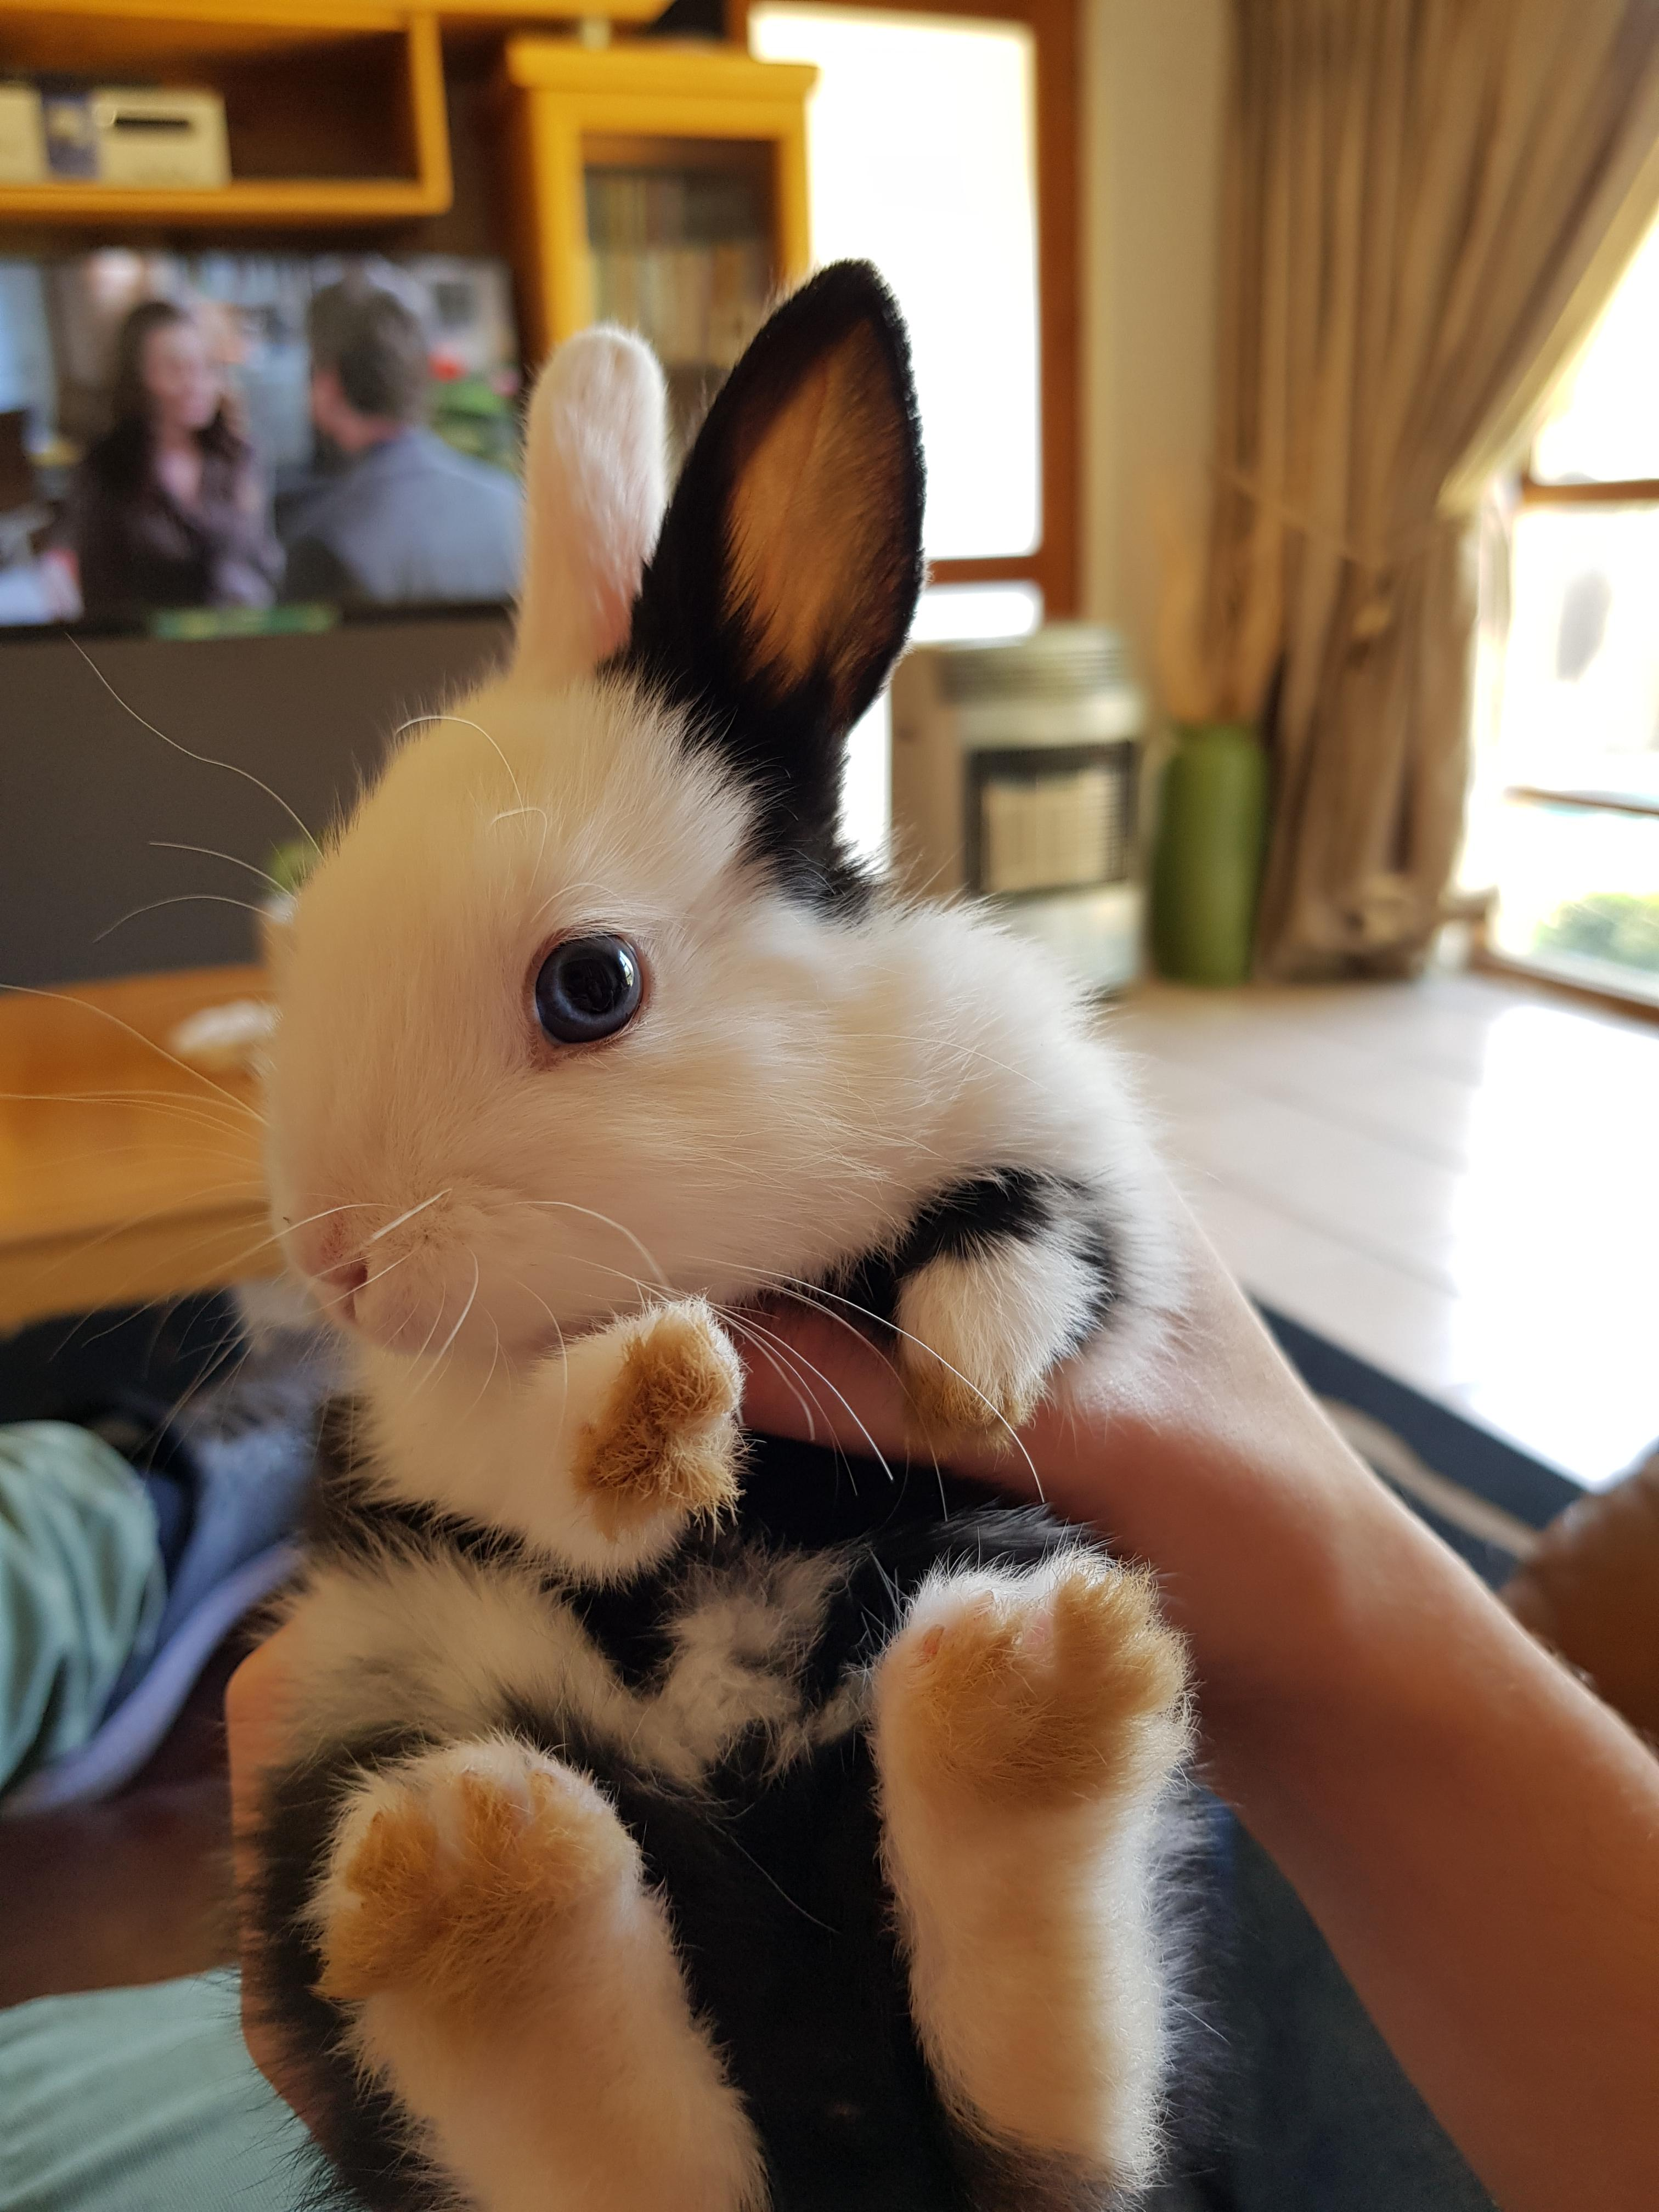bunny: (199, 240, 1274, 2212)
